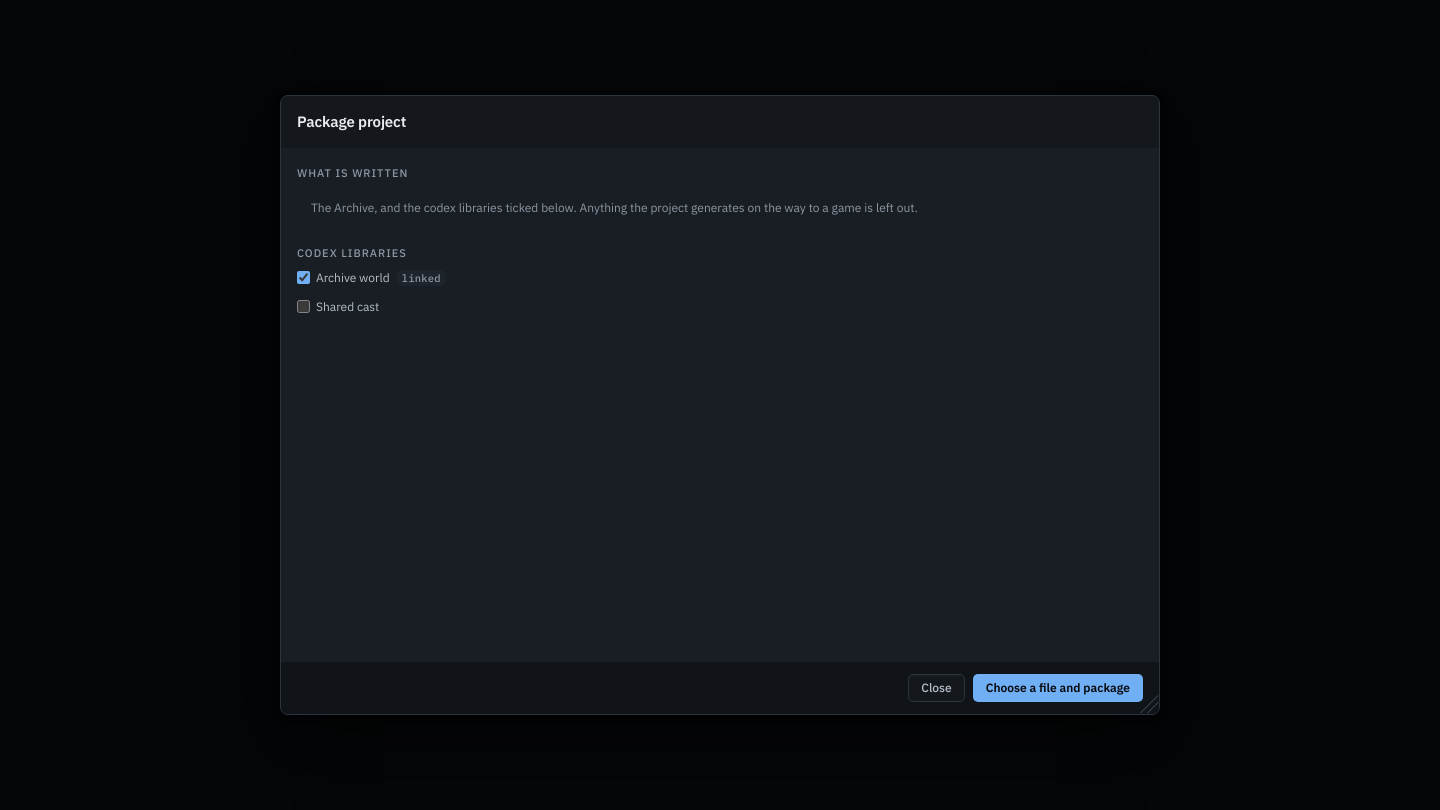
Test: PackageDialog › ticks the libraries the project links and packages those
Expected: the checkbox labelled "Archive world linked" is checked, [297, 271, 310, 284]
Expected: the checkbox labelled "Shared cast" is not checked, [297, 300, 310, 313]
Click the button "Choose a file and package": [1058, 688] box [973, 674, 1143, 702]
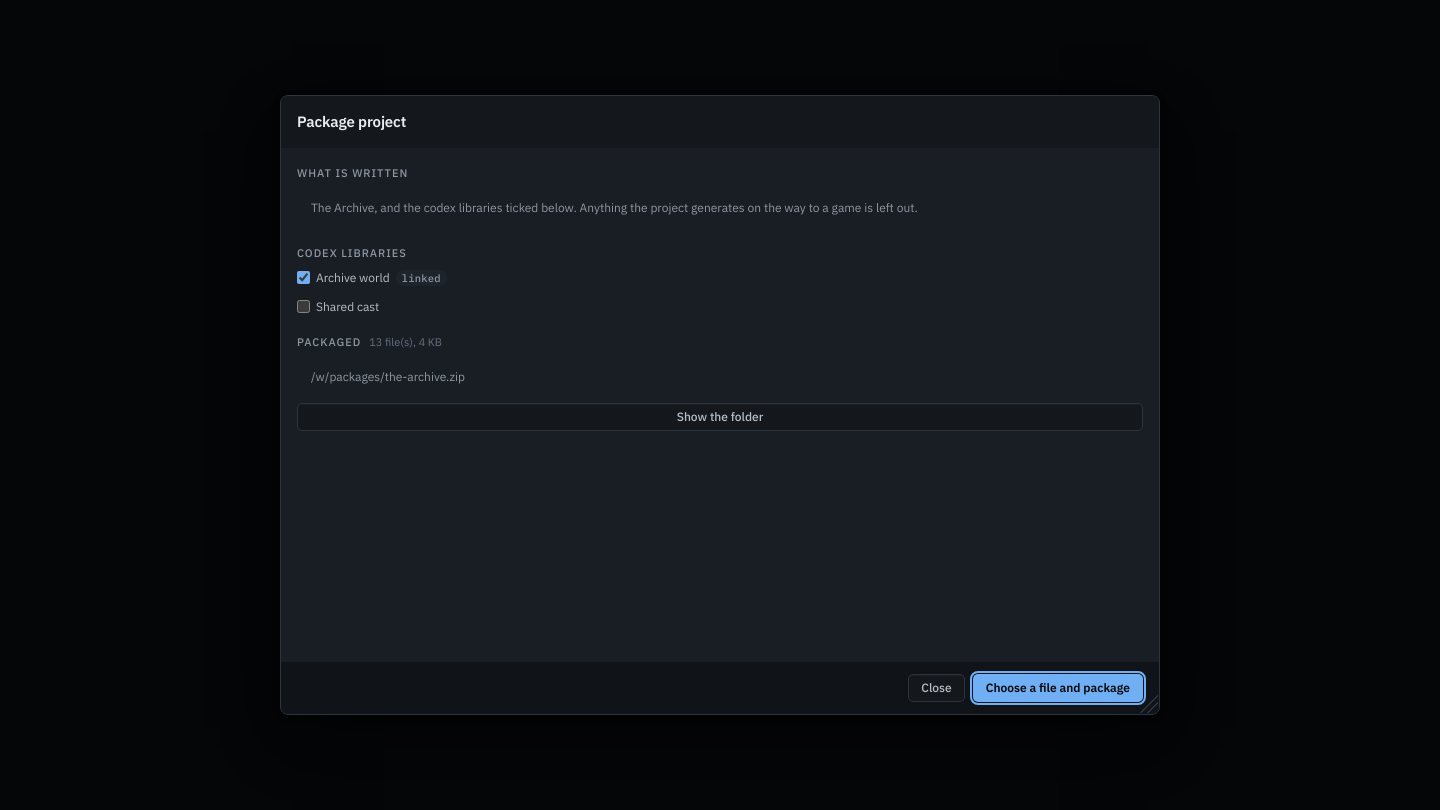
Expected: the text "/w/packages/the-archive.zip" is shown, [311, 369, 465, 384]
